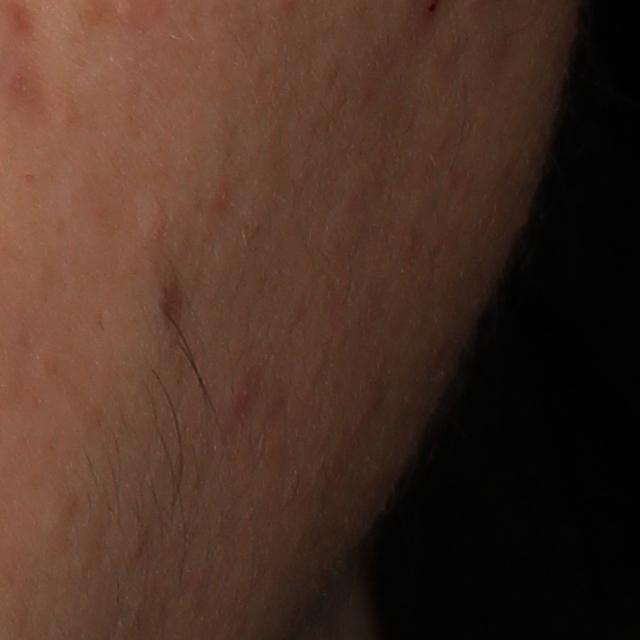papule: (231, 361, 261, 416)
